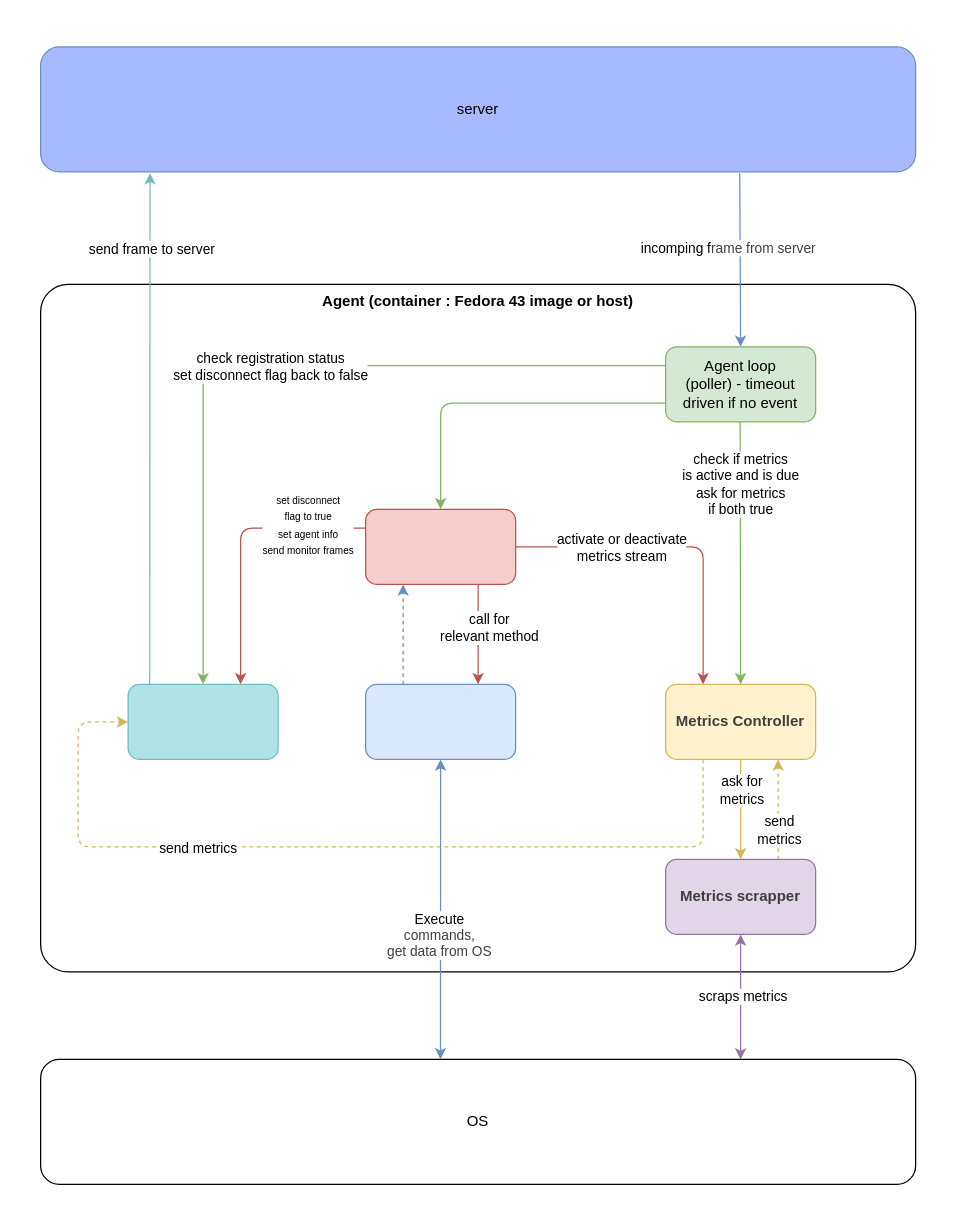
The diagram is 955 pixels wide and 1230 high, and some of its shapes have lost their labels. Each missing label, with the centre of its shape:
Agent dispatcher: pixel 440 546
Agent Session keep track of registration and disconnection status: pixel 202 721
System monitor: pixel 440 721
